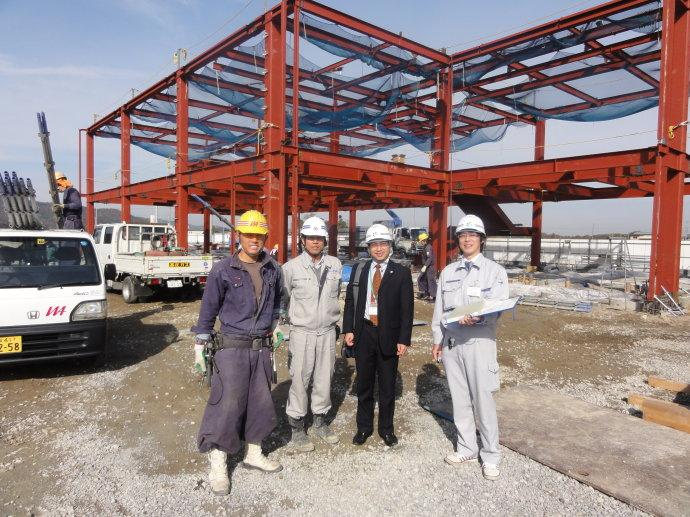helmet: (236, 210, 269, 236), (455, 215, 488, 236), (301, 217, 329, 239), (366, 225, 392, 245), (53, 173, 68, 183), (418, 234, 430, 243)
